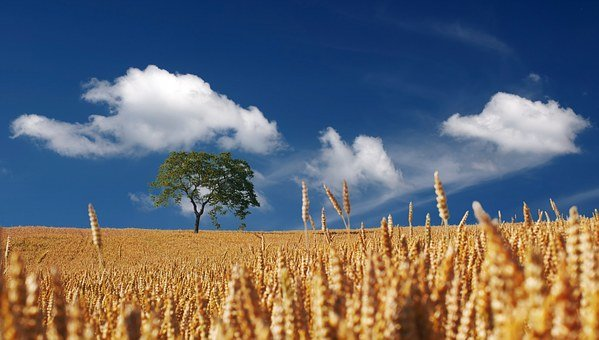field: (5, 223, 599, 339)
sky: (2, 2, 599, 221)
tree: (148, 152, 262, 233)
